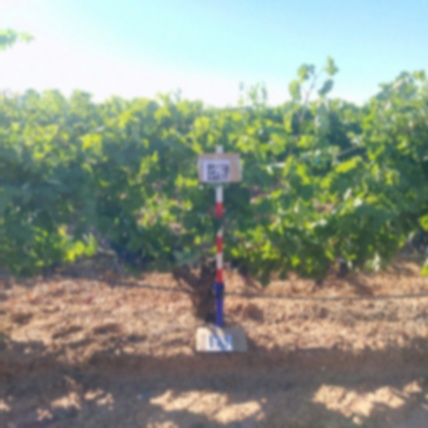QR: (205, 164, 228, 180), (209, 336, 227, 348)
